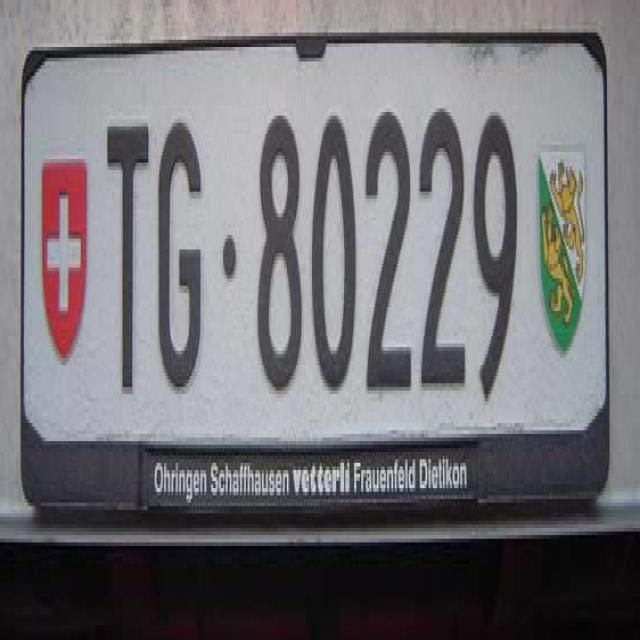Autre: (25, 56, 605, 506)
